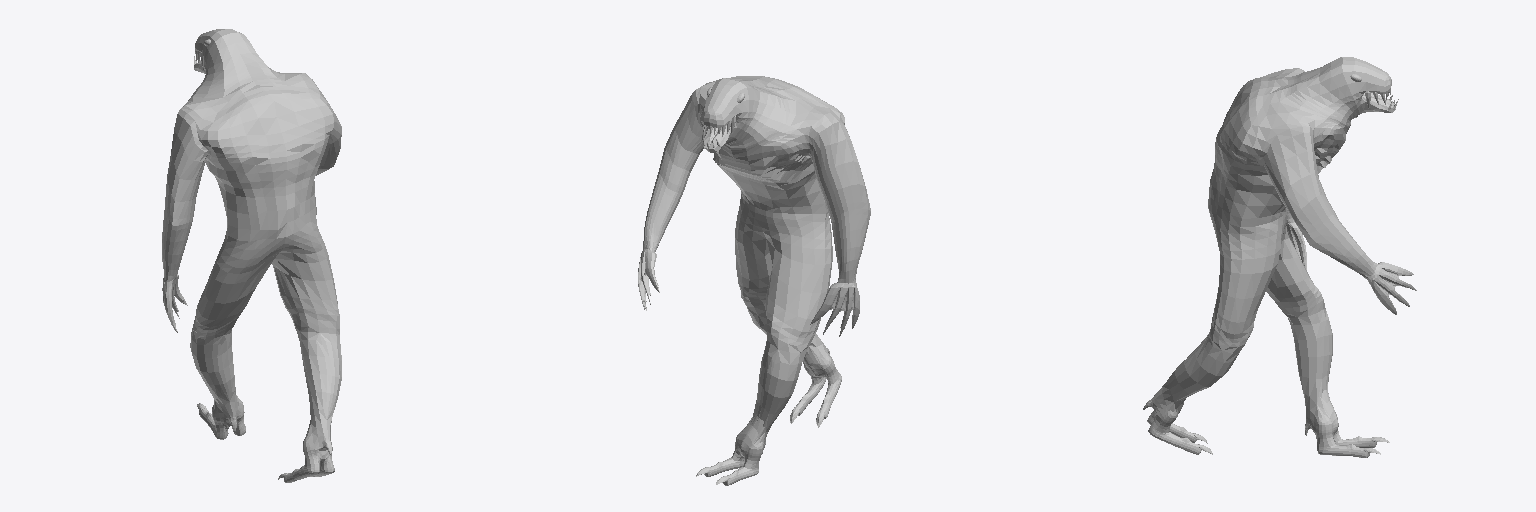
Rendered from Berserkerandar.0046.obj.
3 renders of one model, left to right at view 1: azimuth 30°, elevation 25°; view 2: azimuth 150°, elevation 25°; view 3: azimuth 270°, elevation 25°, orthographic.
Visible parts, largest first — view 1: polySurface27; view 2: polySurface27; view 3: polySurface27.
Part boxes in pixels (x1,y1,x2,y2): polySurface27: (162,29,341,482); polySurface27: (638,76,870,485); polySurface27: (1143,57,1416,457).
Size of the model in its own units: 11.41 by 23.04 by 14.46.